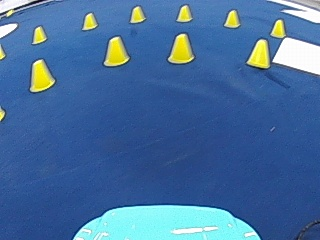cone: (167, 32, 195, 63), (102, 35, 130, 66), (29, 58, 55, 91), (246, 38, 270, 68), (223, 8, 240, 28), (31, 25, 47, 44), (270, 18, 285, 38), (176, 4, 192, 22), (129, 5, 145, 23), (82, 11, 97, 30)
